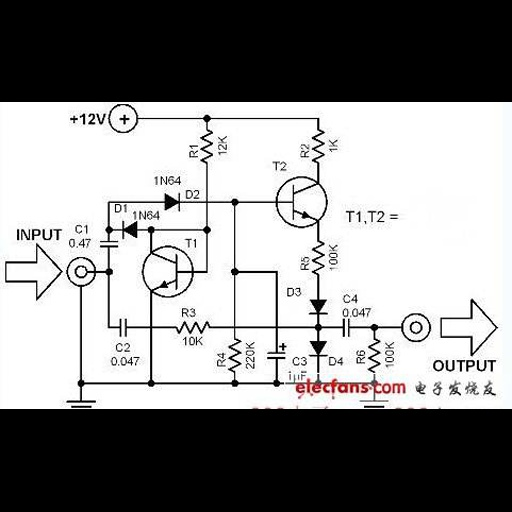capacitor: (114, 316, 134, 339), (337, 317, 357, 339), (96, 237, 121, 251)
firstdiode: (158, 189, 183, 214), (116, 218, 143, 241), (305, 296, 330, 318), (306, 338, 330, 359)
firstpolarcapacitor: (264, 342, 289, 363)
gnd: (355, 398, 390, 410), (64, 399, 97, 409)
npn: (151, 252, 185, 293), (284, 182, 318, 222)
secondresistance: (171, 318, 216, 337), (226, 334, 244, 376), (366, 334, 383, 378), (200, 125, 214, 174), (311, 126, 326, 169), (312, 237, 327, 280)
